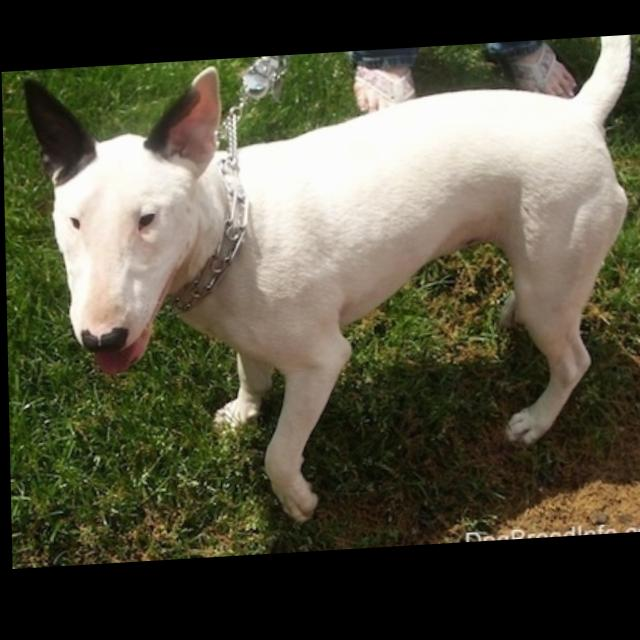bullterrier: (21, 43, 640, 541)
